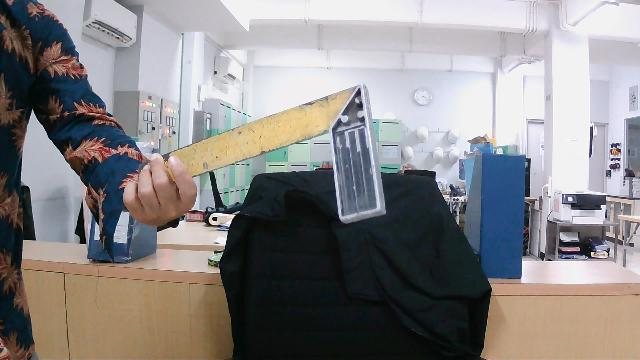penggaris_siku: (131, 81, 390, 240)
